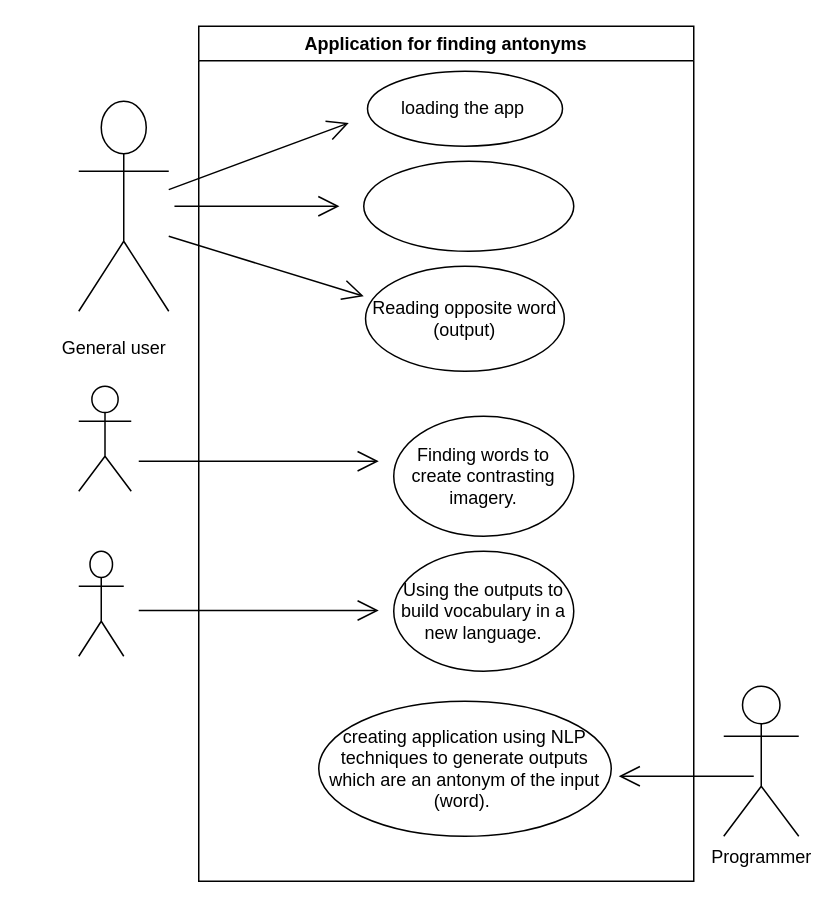
This 837x908 diagram has some shape labels left out. The centre of each missing label's shape, as x and y in pixels:
Creative writer: the point at 104,438
Language Learner: the point at 100,603
typing word (input) into app: the point at 468,205
